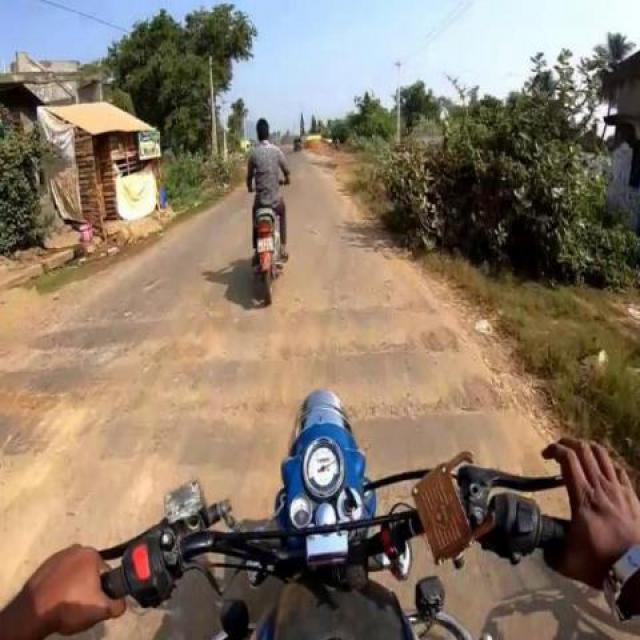Unmarked Bump: (1, 346, 488, 401), (28, 305, 454, 358), (1, 414, 296, 482), (363, 406, 537, 474)
